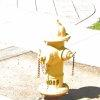a fire hydrant: (37, 17, 76, 96)
